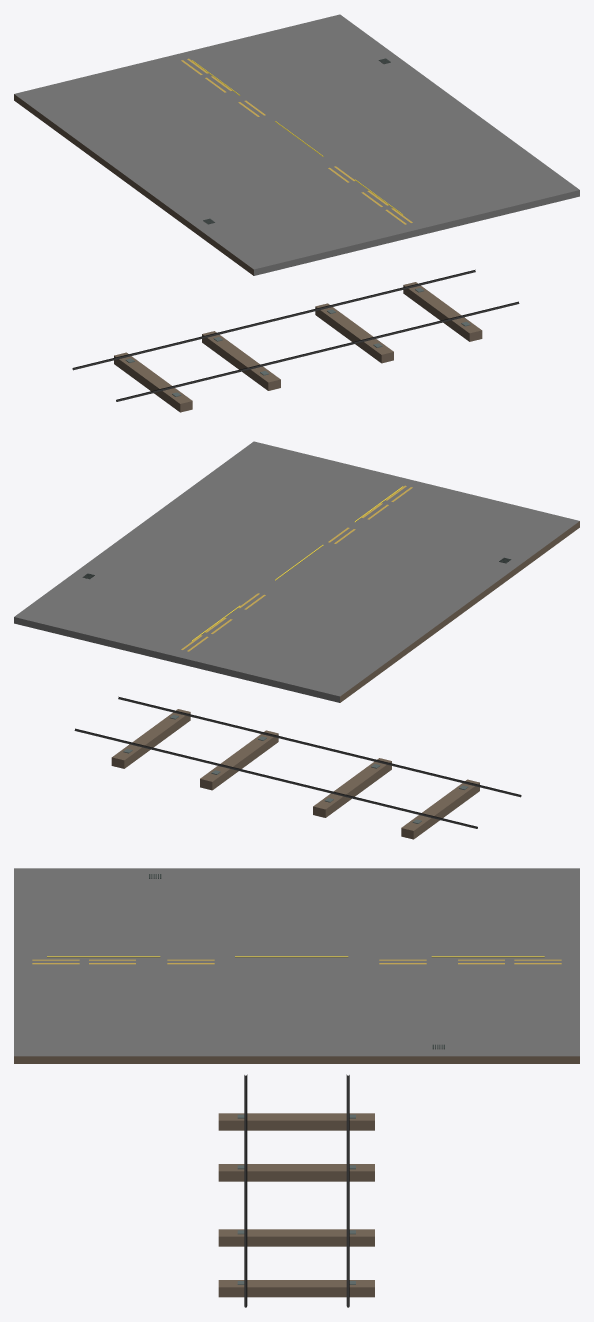
File: XBLD077.glb
3 views of the same model, one above another, from view 1: azimuth 30°, elevation 25°; view 2: azimuth 150°, elevation 25°; view 3: azimuth 270°, elevation 25° (orthographic). The views are drawn at different scales.
Parts seen in each view (by area): view 1: RD73 | archived geometry, RL45 | archived geometry, RL45 | line, light and sprite surfaces, Fitted street and landscape details; view 2: RD73 | archived geometry, RL45 | archived geometry, RL45 | line, light and sprite surfaces, Fitted street and landscape details; view 3: RD73 | archived geometry, RL45 | archived geometry, RL45 | line, light and sprite surfaces, Fitted street and landscape details, RD73 | line, light and sprite surfaces.
Boxes of the visible parts, x1,y1,x2,y2 form: RD73 | archived geometry: (14,14,579,275); RL45 | archived geometry: (114,282,482,412); RL45 | line, light and sprite surfaces: (72,269,519,401); Fitted street and landscape details: (181,58,412,224); RD73 | archived geometry: (14,441,579,702); RL45 | archived geometry: (111,709,479,839); RL45 | line, light and sprite surfaces: (74,696,521,828); Fitted street and landscape details: (82,485,511,651); RD73 | archived geometry: (14,868,579,1063); RL45 | archived geometry: (218,1113,374,1297); RL45 | line, light and sprite surfaces: (244,1074,349,1307); Fitted street and landscape details: (32,874,561,1049); RD73 | line, light and sprite surfaces: (47,956,544,957).
Size of the model in its own units: 16.06 by 8.19 by 16.56.
